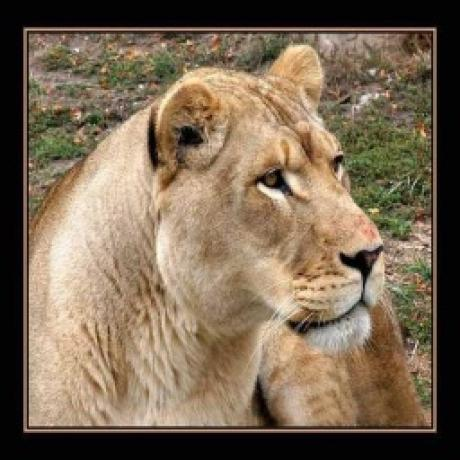Lion: (32, 39, 426, 432)
